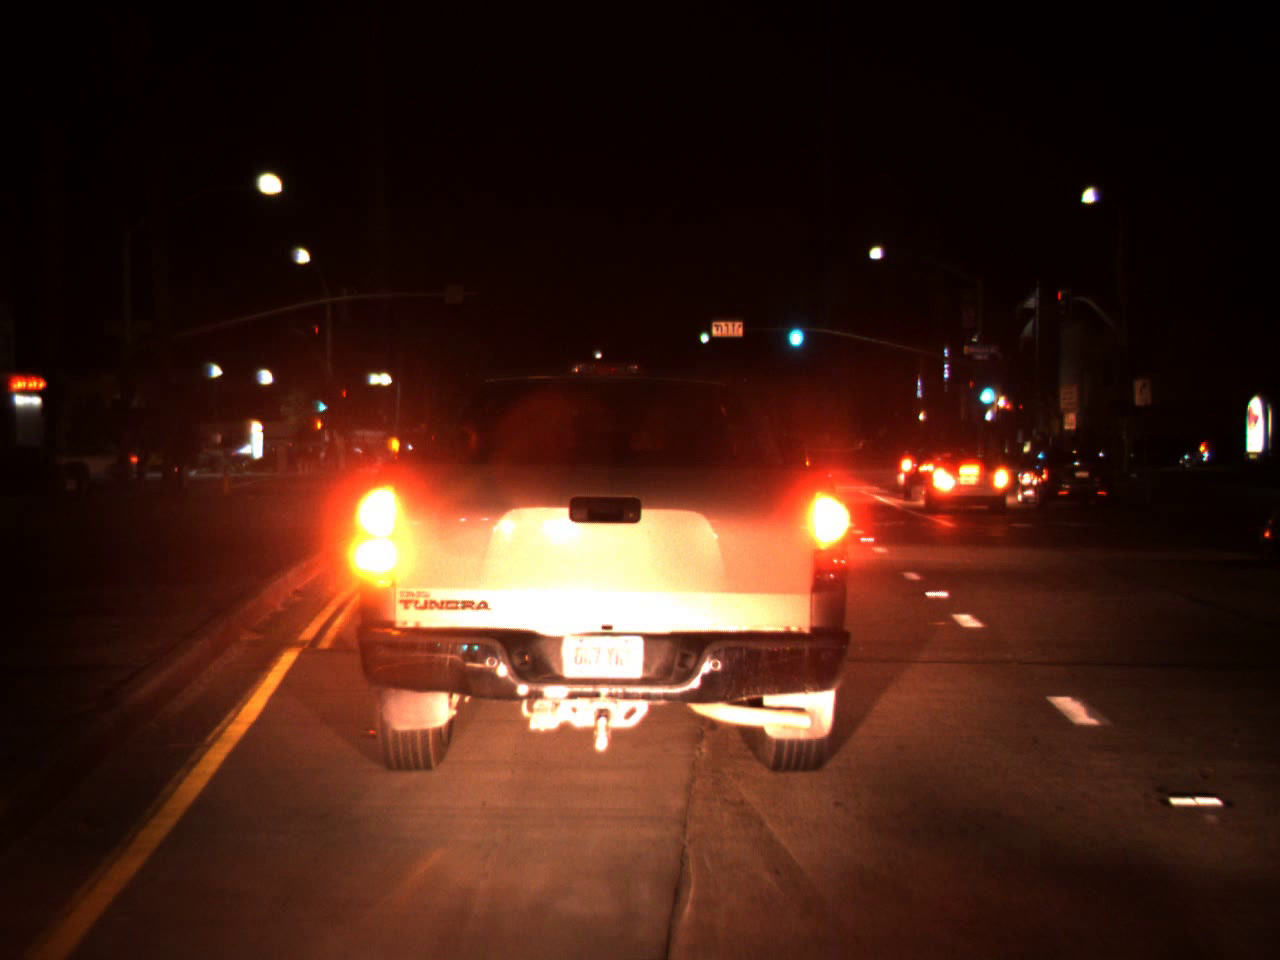go: (783, 306, 806, 354), (974, 368, 997, 410), (697, 320, 709, 347), (317, 392, 327, 413)
